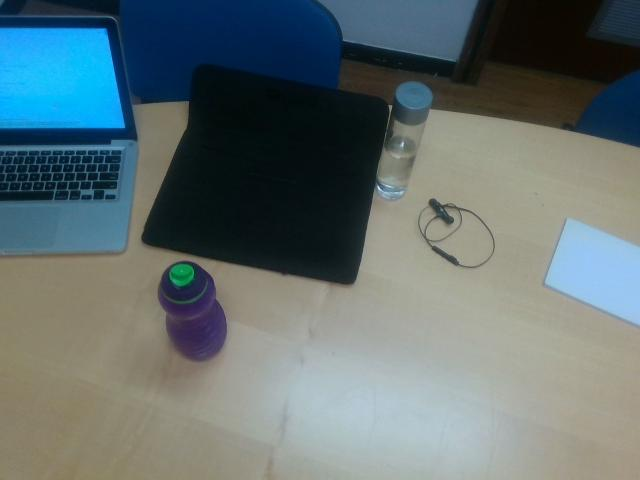bottle: (158, 261, 227, 361)
